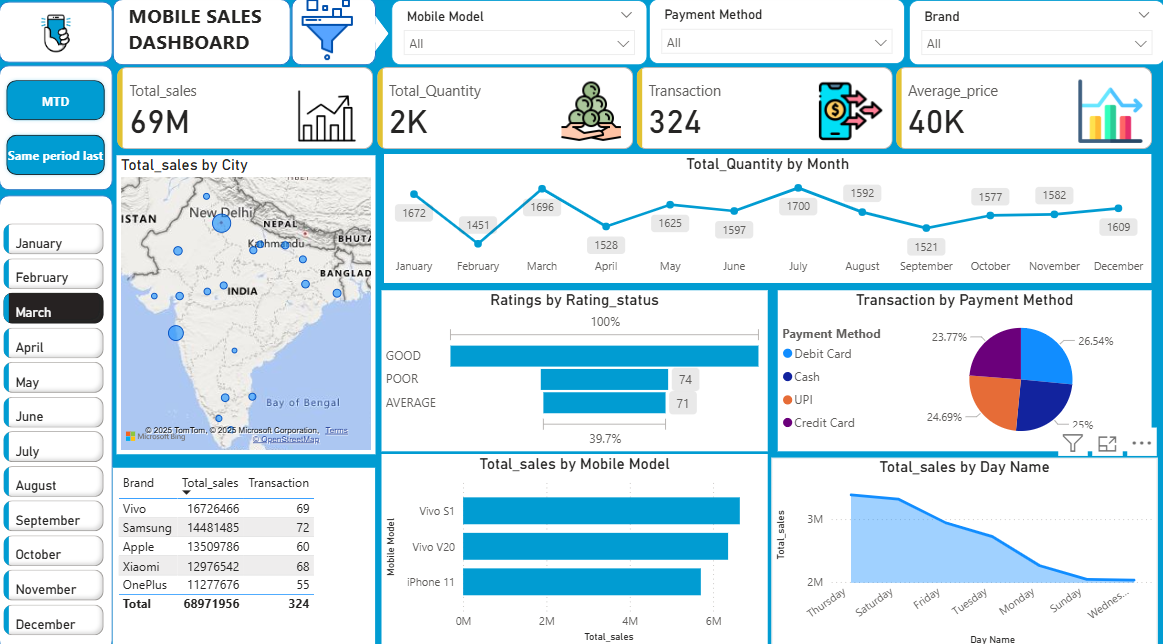

The dashboard page shown, as its layout file describes it:
{"tool":"powerbi","page":{"name":"Dashboard","canvas":[1280,720],"ordinal":0},"visuals":[{"type":"shape","box":[0,8.2,124.9,67.2],"z":0},{"type":"image","box":[23.3,11,78.2,64.5],"z":1000},{"type":"shape","box":[0,220.9,124.9,499.5],"z":2000},{"type":"shape","box":[0,78.2,124.9,137.2],"z":3000},{"type":"advancedSlicerVisual","fields":{"Values":["Custom_Calender.Date.Variation.Date Hierarchy.Month"]},"box":[0,247,120.8,469.3],"z":4000},{"type":"cardVisual","fields":{"Data":["Sales_data.Total_sales","Sales_data.Total_Quantity","Sales_data.Transaction","Sales_data.Average_price"]},"box":[124.9,75.5,1147.2,100.2],"z":5000},{"type":"slicer","fields":{"Values":["Sales_data.Mobile Model"]},"box":[430.5,7.1,280.8,71.3],"z":6000},{"type":"slicer","fields":{"Values":["Sales_data.Brand"]},"box":[999.2,7.1,280.8,71.3],"z":7000},{"type":"slicer","fields":{"Values":["Sales_data.Payment Method"]},"box":[714.1,5.7,280.8,71.3],"z":8000},{"type":"shape","box":[320.7,4.3,92.7,74.1],"z":9000},{"type":"shape","box":[397.7,22.8,29.9,39.9],"z":10000},{"type":"image","box":[320.7,0,78.4,78.4],"z":11000},{"type":"shape","box":[125.4,5.7,195.3,72.7],"z":12000},{"type":"textbox","box":[136.8,4.3,170,70],"z":13000},{"type":"map","fields":{"Category":["Sales_data.City"],"Size":["Sales_data.Total_sales"]},"box":[129,177,284,328],"z":14000},{"type":"lineChart","fields":{"Y":["Sales_data.Total_Quantity"],"Category":["Custom_Calender.Date.Variation.Date Hierarchy.Month"]},"box":[422.6,175.6,842.5,141.3],"z":15000},{"type":"funnel","title":"Ratings by Rating_status","fields":{"Y":["CountNonNull(Sales_data.Customer Ratings)"],"Category":["Sales_data.Rating_status"]},"box":[419.9,325.2,424,177],"z":16000},{"type":"pieChart","fields":{"Y":["Sales_data.Transaction"],"Category":["Sales_data.Payment Method"]},"box":[854.9,325.2,410.3,177],"z":17000},{"type":"clusteredBarChart","fields":{"Y":["Sales_data.Total_sales"],"Category":["Sales_data.Mobile Model"]},"box":[419.9,505,424,211.3],"z":18000},{"type":"areaChart","fields":{"Y":["Sales_data.Total_sales"],"Category":["Custom_Calender.Day Name"]},"box":[848,508.7,424,211.3],"z":19000},{"type":"tableEx","fields":{"Values":["Sales_data.Brand","Sales_data.Total_sales","Sales_data.Transaction"]},"box":[124.9,520.1,288.2,196.2],"z":20000},{"type":"pageNavigator","box":[4.1,90.6,116.6,112.5],"z":21000}]}

Visuals, with their boxes in screenshot pixels (x1, y1, x2, y2), scaled from the page's 1280x720 canvas onto the 1163x644 screenshot:
shape: <bbox>0, 7, 113, 67</bbox>
image: <bbox>21, 10, 92, 68</bbox>
shape: <bbox>0, 198, 113, 643</bbox>
shape: <bbox>0, 70, 113, 193</bbox>
advancedSlicerVisual - Custom_Calender.Date.Variation.Date Hierarchy.Month: <bbox>0, 221, 110, 641</bbox>
cardVisual - Sales_data.Total_sales x Sales_data.Total_Quantity: <bbox>113, 68, 1156, 157</bbox>
slicer - Sales_data.Mobile Model: <bbox>391, 6, 646, 70</bbox>
slicer - Sales_data.Brand: <bbox>908, 6, 1162, 70</bbox>
slicer - Sales_data.Payment Method: <bbox>649, 5, 904, 69</bbox>
shape: <bbox>291, 4, 376, 70</bbox>
shape: <bbox>361, 20, 389, 56</bbox>
image: <bbox>291, 0, 363, 70</bbox>
shape: <bbox>114, 5, 291, 70</bbox>
textbox: <bbox>124, 4, 279, 66</bbox>
map - Sales_data.City x Sales_data.Total_sales: <bbox>117, 158, 375, 452</bbox>
lineChart - Sales_data.Total_Quantity x Custom_Calender.Date.Variation.Date Hierarchy.Month: <bbox>384, 157, 1149, 283</bbox>
"Ratings by Rating_status" funnel: <bbox>382, 291, 767, 449</bbox>
pieChart - Sales_data.Transaction x Sales_data.Payment Method: <bbox>777, 291, 1150, 449</bbox>
clusteredBarChart - Sales_data.Total_sales x Sales_data.Mobile Model: <bbox>382, 452, 767, 641</bbox>
areaChart - Sales_data.Total_sales x Custom_Calender.Day Name: <bbox>770, 455, 1156, 643</bbox>
tableEx - Sales_data.Brand x Sales_data.Total_sales: <bbox>113, 465, 375, 641</bbox>
pageNavigator: <bbox>4, 81, 110, 182</bbox>
